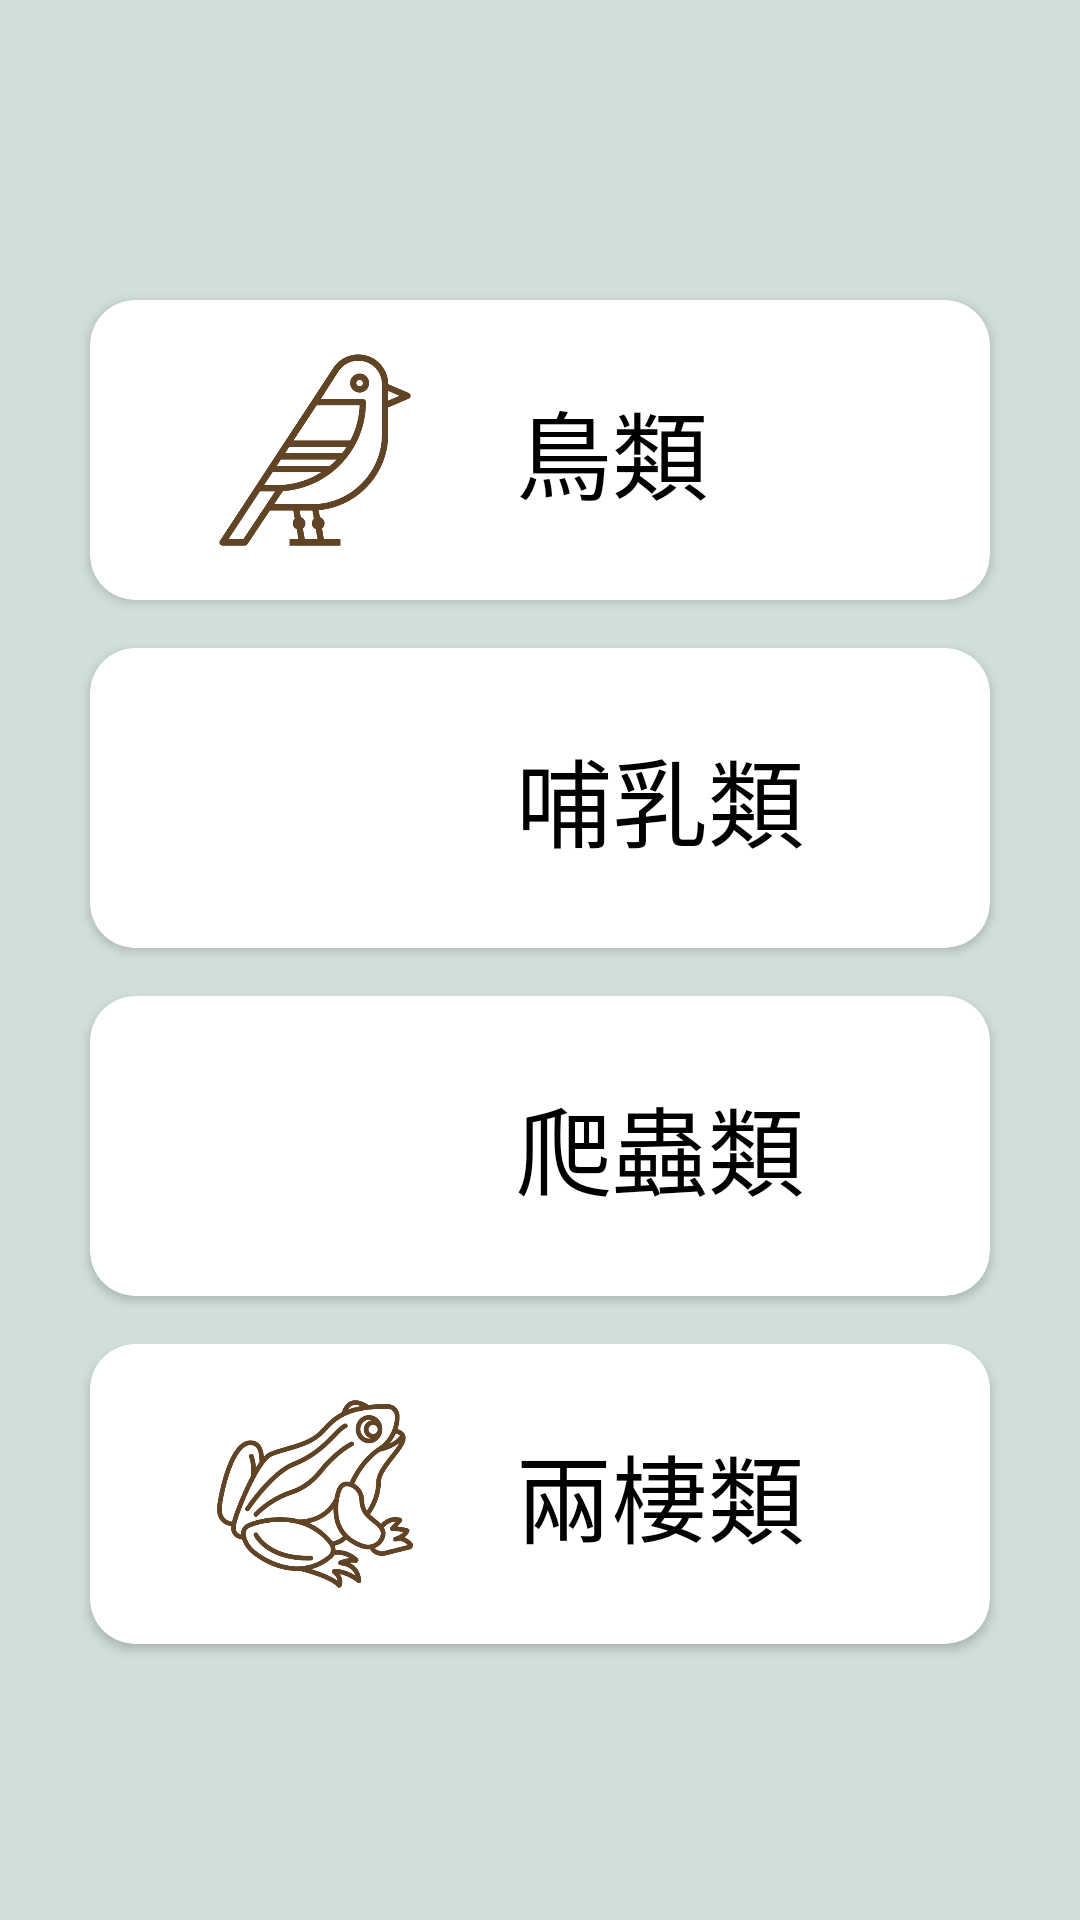

Icon click points for this 1080×1920 phone screenshot, format point (x, y):
bird: point (315, 450)
frog: point (315, 1494)
